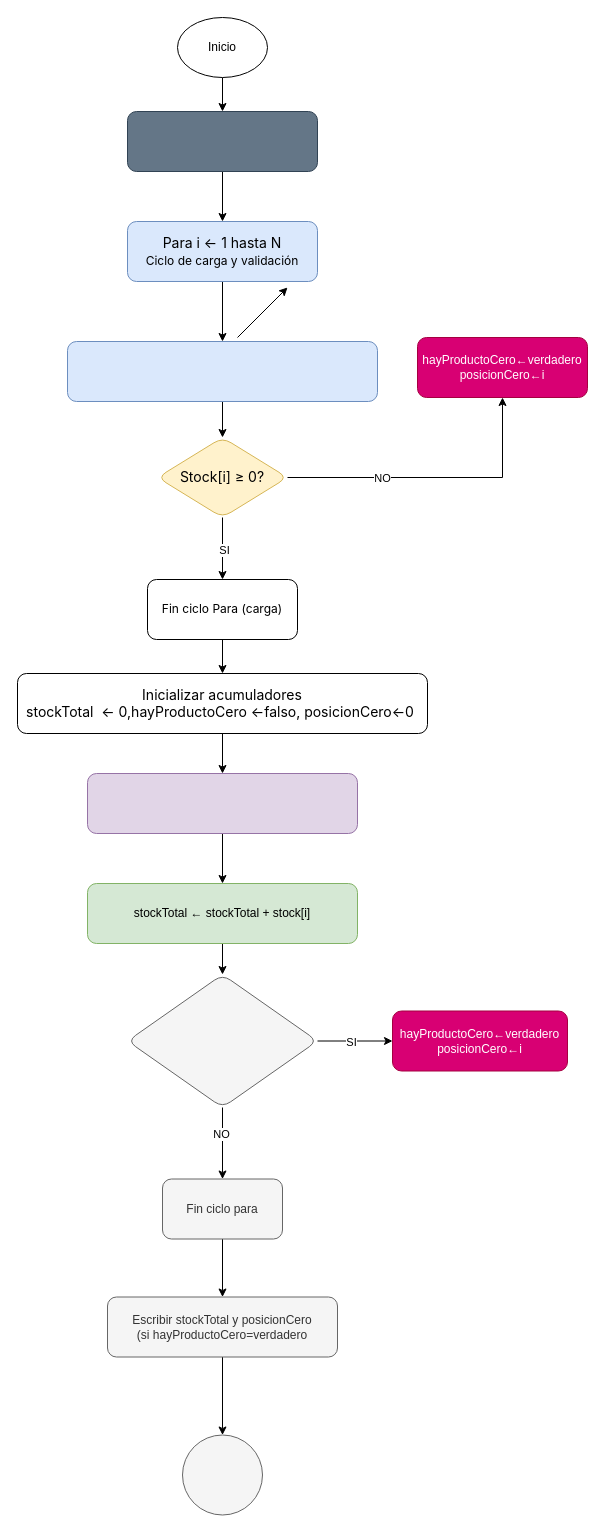
Some shapes in this 605 by 1533 pixel diagram are drawn without their labels. The centre of each missing label's shape, as x and y in pixels:
FIN: point (222, 1474)
Leer N: point (222, 141)
Mientras valorValido = 0: leer stock[i]: point (222, 371)
Para i ← 1 hasta N Ciclo de recorrido: point (222, 803)
stock[i] = 0 Y hayProductoCero=falso?: point (222, 1041)
